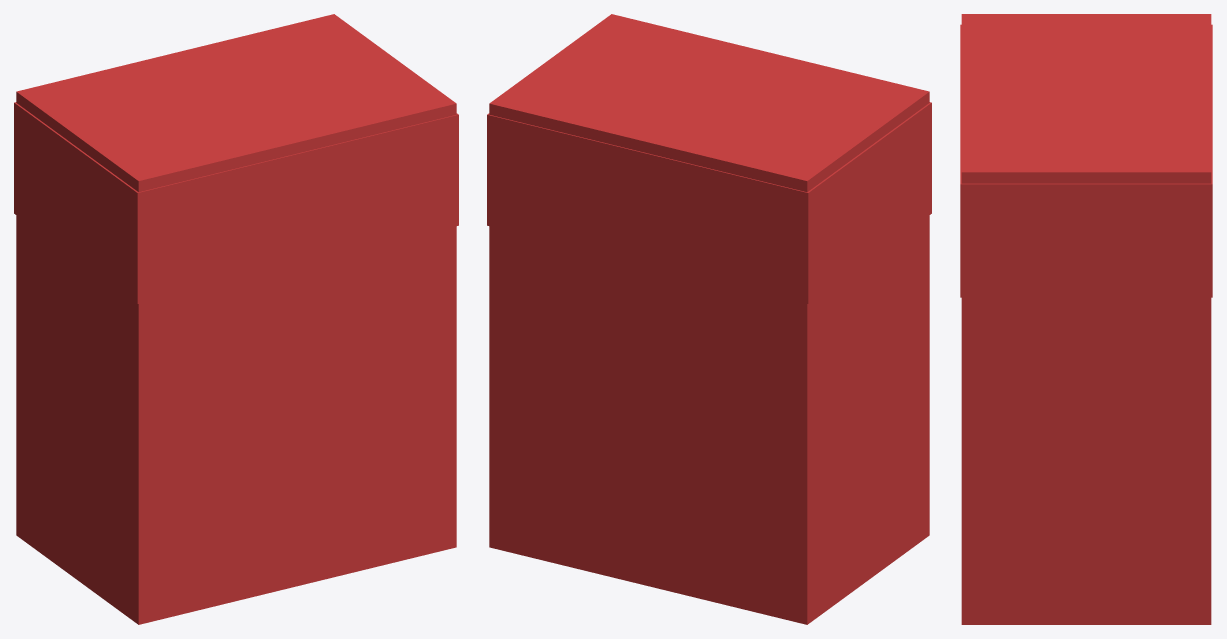
The model's file is g_tea_box.glb.
3 views of the same model, side by side, from view 1: azimuth 30°, elevation 25°; view 2: azimuth 150°, elevation 25°; view 3: azimuth 270°, elevation 25° (orthographic). The views are drawn at different scales.
Parts seen in each view (by area): view 1: g_tea_box; view 2: g_tea_box; view 3: g_tea_box.
Boxes of the visible parts, <box> form: g_tea_box: <box>14,14,458,624</box>; g_tea_box: <box>487,14,931,624</box>; g_tea_box: <box>960,14,1212,624</box>.
Size of the model in its own units: 0.1212 by 0.16 by 0.0808.
